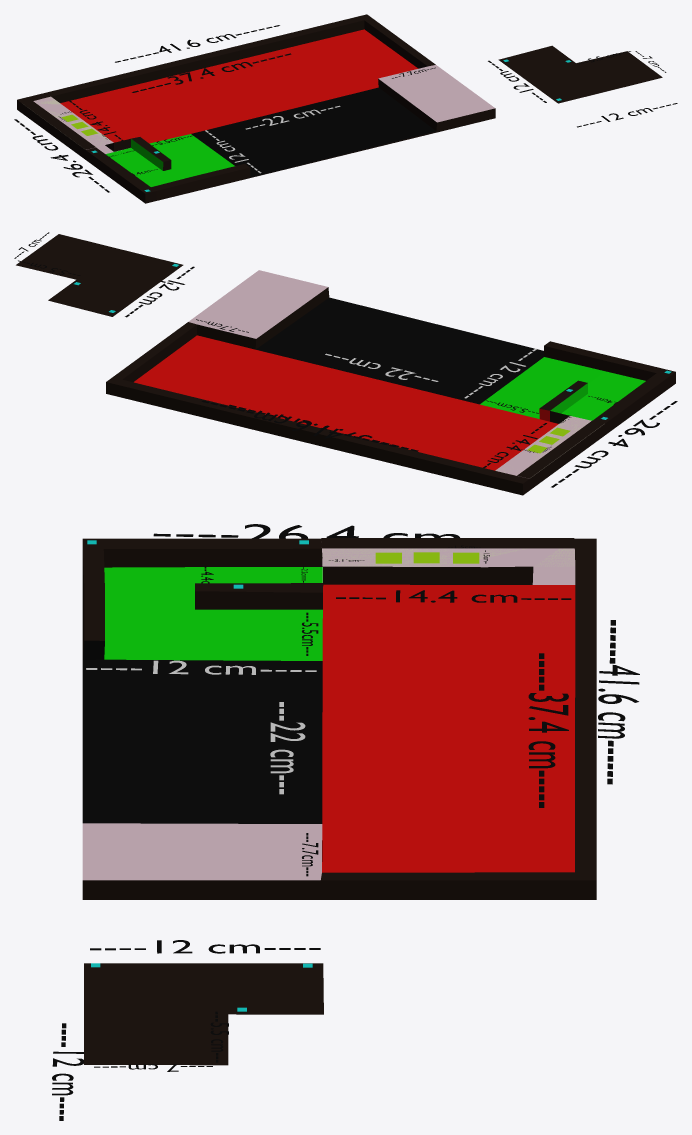
The picture shows the model from 3 angles, top to bottom: view 1: azimuth 30°, elevation 25°; view 2: azimuth 150°, elevation 25°; view 3: azimuth 270°, elevation 25°; orthographic projection. The views are drawn at different scales.
Visible parts, largest first — view 1: Cube, 26.4cm, 37.4cm, 41.6cm; view 2: Cube, 26.4cm, 41.6cm; view 3: Cube, 41.6cm, 37.4cm, 26.4cm.
Part boxes in pixels (<box>): Cube: <box>17,14,662,203</box>; 26.4cm: <box>14,119,109,192</box>; 37.4cm: <box>132,53,291,92</box>; 41.6cm: <box>115,25,279,62</box>; Cube: <box>16,234,675,495</box>; 26.4cm: <box>551,401,677,487</box>; 41.6cm: <box>201,400,396,446</box>; Cube: <box>82,538,596,1065</box>; 41.6cm: <box>598,620,639,784</box>; 37.4cm: <box>528,653,568,807</box>; 26.4cm: <box>153,524,459,538</box>.
Size of the model in its own units: 12.13 by 0.9038 by 5.54.
